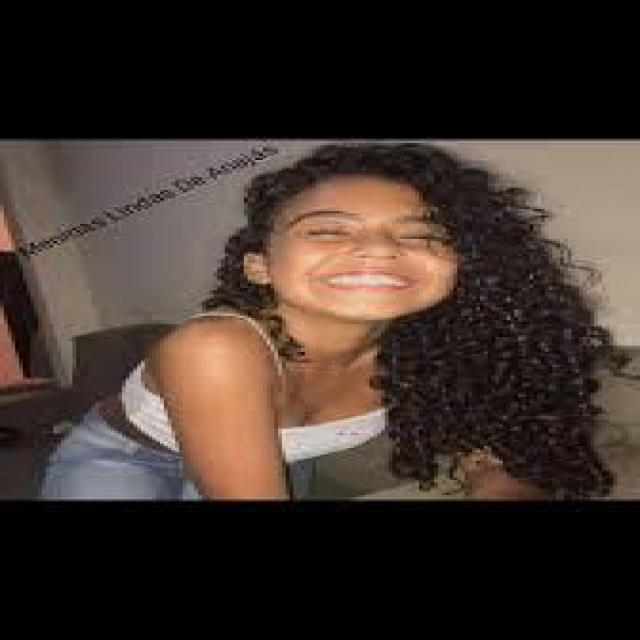person: (42, 145, 617, 497)
